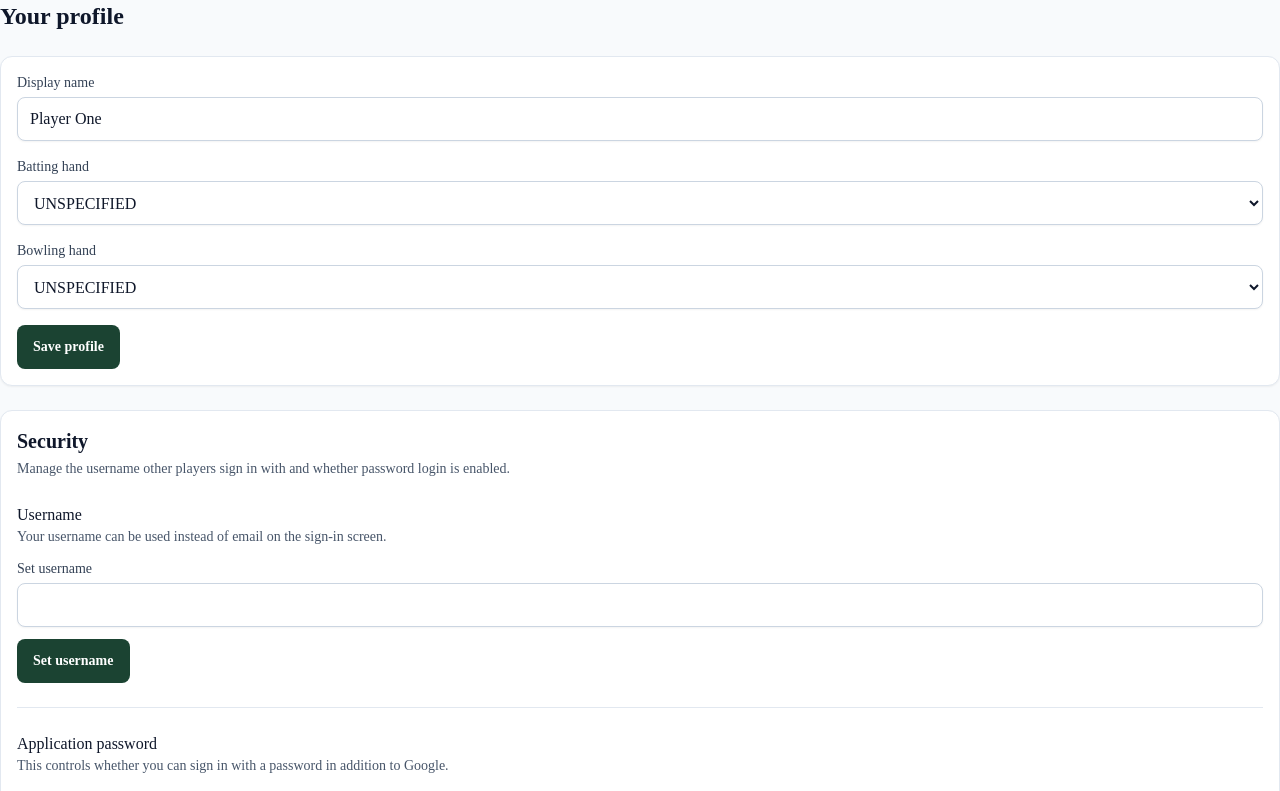
it: AppProfilePage › submits the edited profile fields to the API client
Replace the text in the field labelled "Display name" with "Updated Name". click: (640, 119)
box: x1=17 y1=97 x2=1263 y2=141
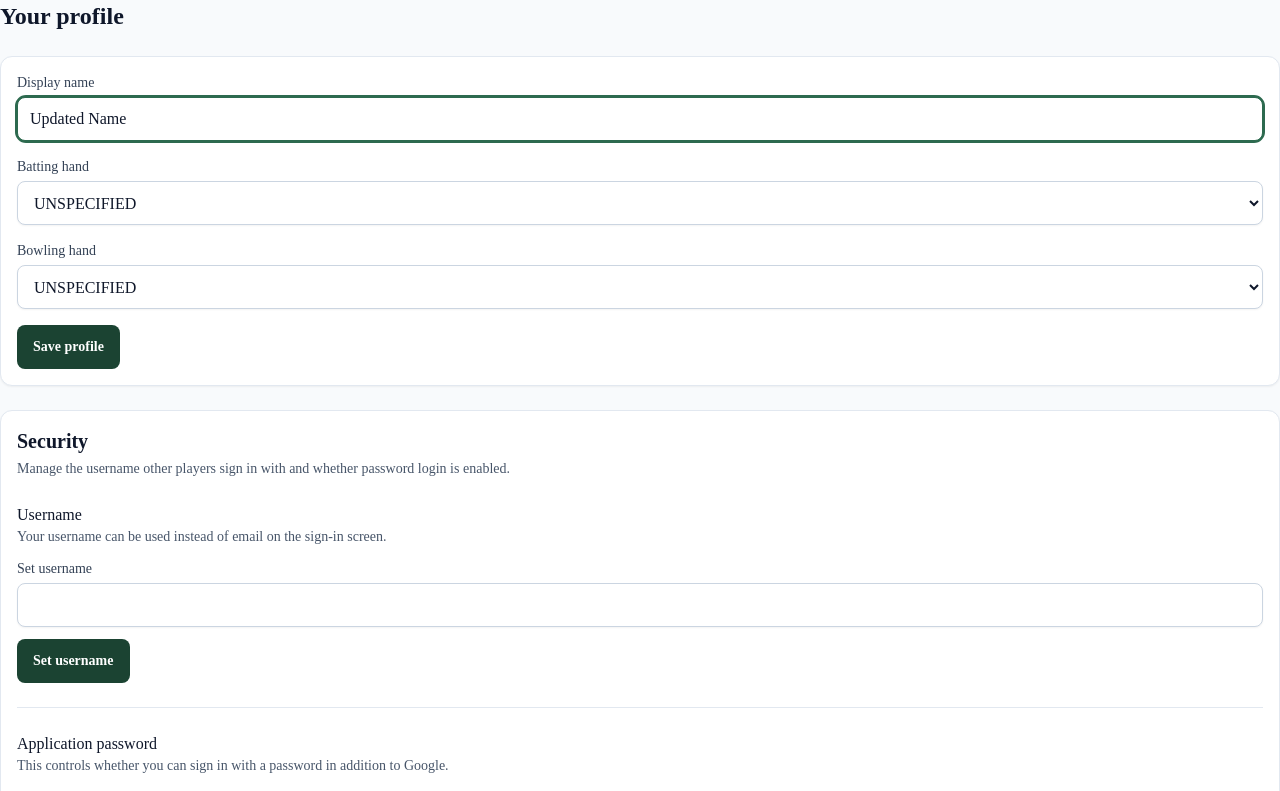
Select "LEFT" in the dropdown labelled "Batting hand". click: (640, 203)
box: x1=17 y1=181 x2=1263 y2=225
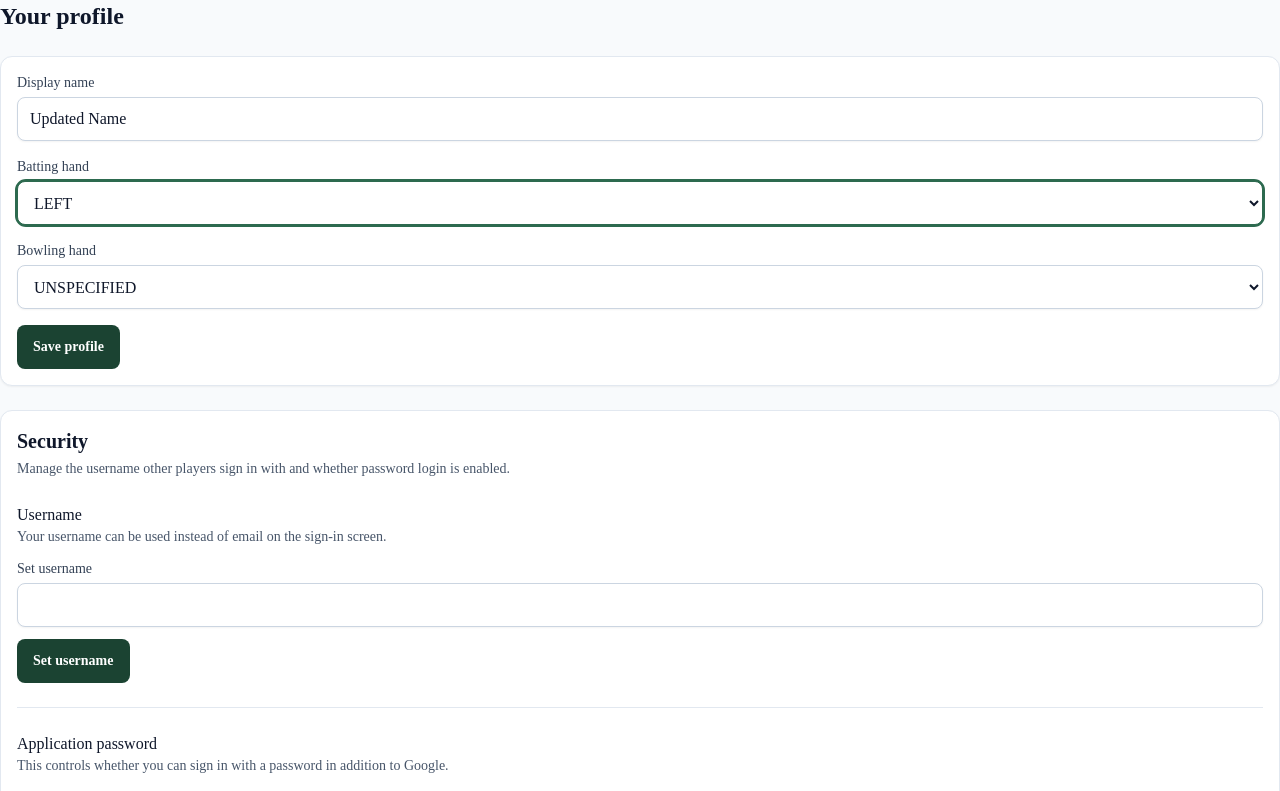
Select "RIGHT" in the dropdown labelled "Bowling hand". click: (640, 287)
box: x1=17 y1=265 x2=1263 y2=309
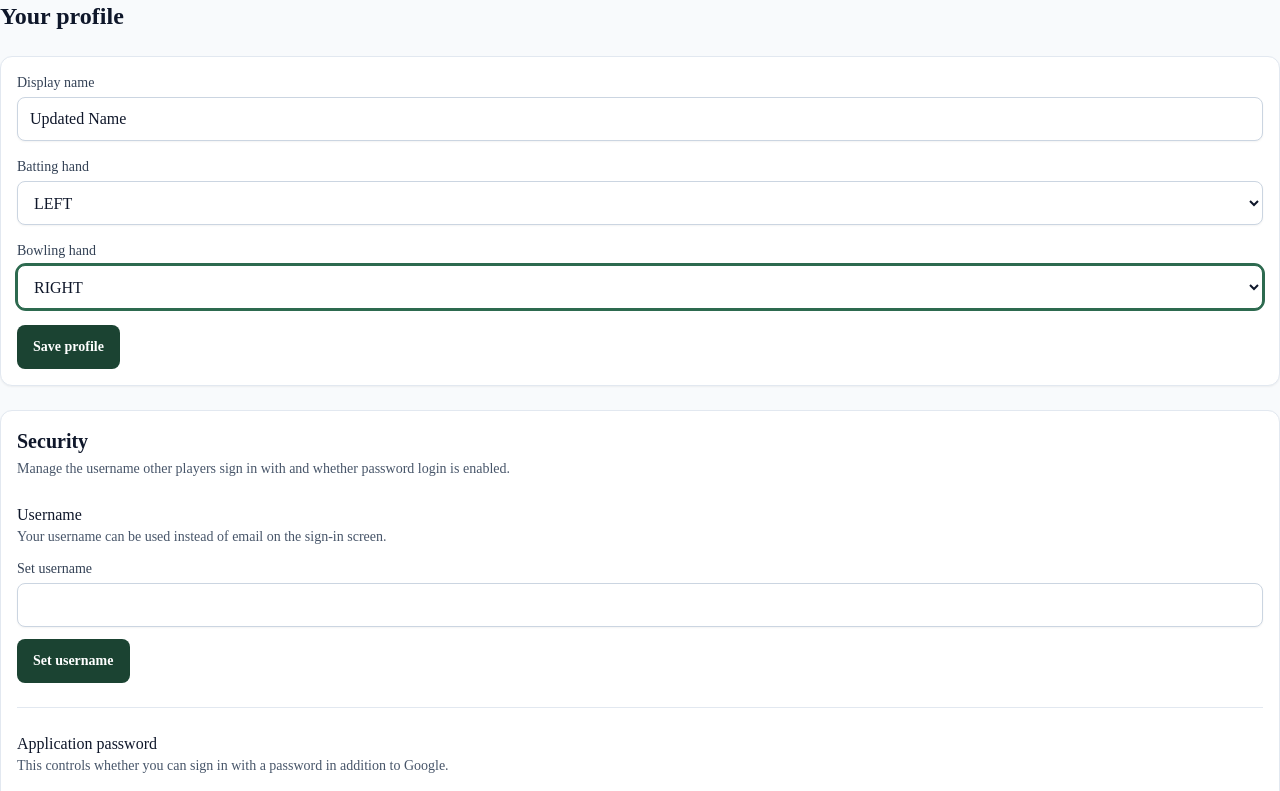
Click the button "Save profile". click: click(68, 347)
box: x1=17 y1=325 x2=120 y2=369
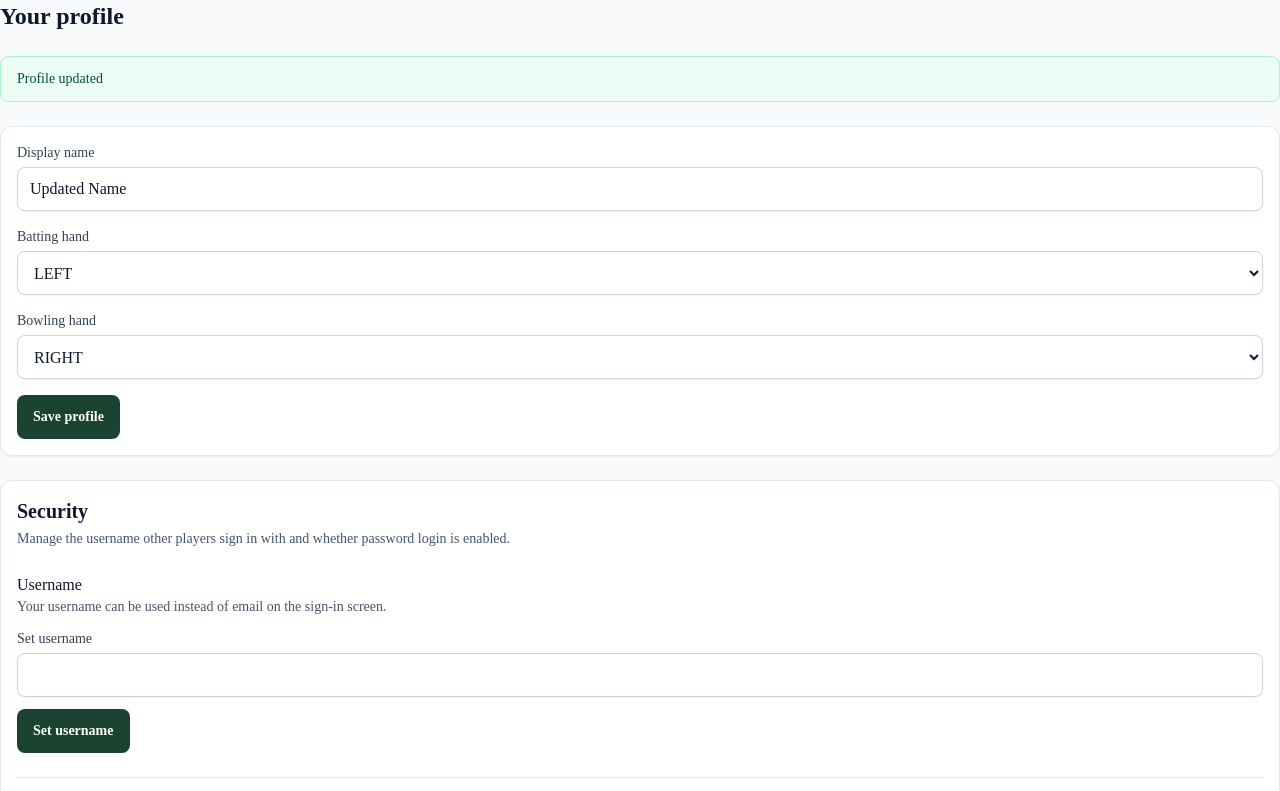
expect the text "Profile updated" is shown: met, box x1=17 y1=71 x2=103 y2=86
